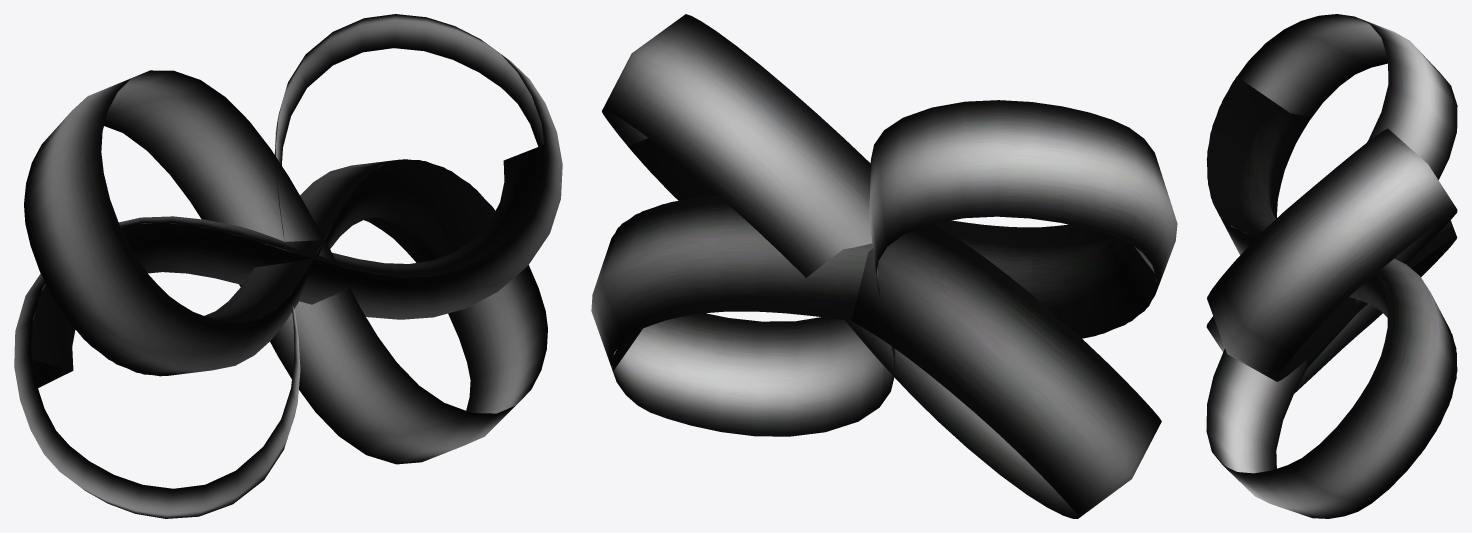
The model's file is vfx_kurp_0353.dae.
3 views of the same model, side by side, from view 1: azimuth 30°, elevation 25°; view 2: azimuth 150°, elevation 25°; view 3: azimuth 270°, elevation 25° (orthographic). The views are drawn at different scales.
Visible parts, largest first — view 1: vfx_kurp_0353; view 2: vfx_kurp_0353; view 3: vfx_kurp_0353.
Boxes of the visible parts, bbox=[...] form: vfx_kurp_0353: bbox=[14, 14, 562, 518]; vfx_kurp_0353: bbox=[591, 14, 1177, 518]; vfx_kurp_0353: bbox=[1206, 14, 1457, 518].
Bounding box in the file's own units: 9.4 × 4.54 × 7.37.
Materials: 1 (1 with a texture image).
